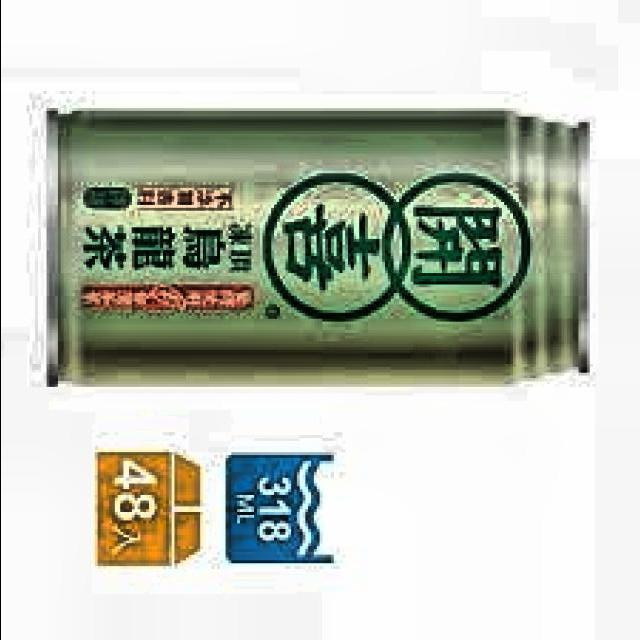Aluminum Can: (28, 103, 598, 400)
